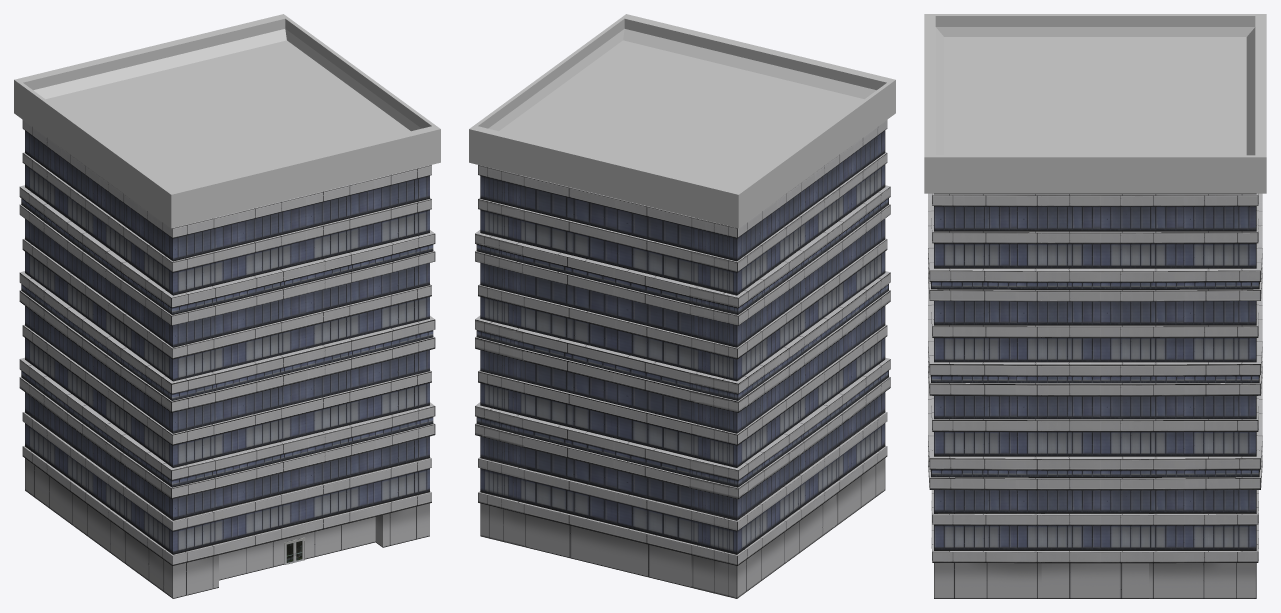
File: Building_01.FBX
3 renders of one model, left to right at view 1: azimuth 30°, elevation 25°; view 2: azimuth 150°, elevation 25°; view 3: azimuth 270°, elevation 25°, orthographic. The views are drawn at different scales.
Parts seen in each view (by area): view 1: Box383; view 2: Box383; view 3: Box383.
Part boxes in pixels (<box>): Box383: <box>14,14,440,598</box>; Box383: <box>469,14,895,598</box>; Box383: <box>924,14,1266,598</box>.
Bounding box in the file's own units: 42 × 60.93 × 42.43.
